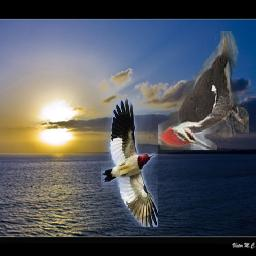Woodpecker: (159, 32, 250, 151), (102, 99, 159, 228)
